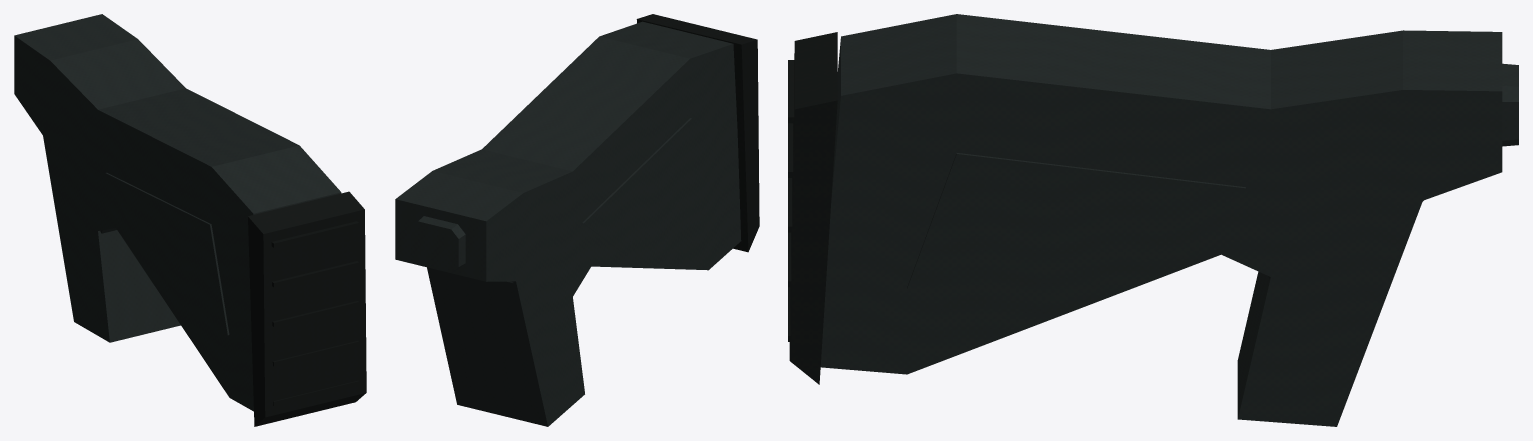
The model's file is benelli_fixed.glb.
3 views of the same model, side by side, from view 1: azimuth 30°, elevation 25°; view 2: azimuth 150°, elevation 25°; view 3: azimuth 270°, elevation 25° (orthographic). The views are drawn at different scales.
Parts seen in each view (by area): view 1: stock__benelli_fixed_LOD0_RAID_Secondary_Original_polymer, stock__benelli_fixed_LOD1_RAID_Secondary_Original_rubber, stock__benelli_fixed_LOD0_RAID_Secondary_Original_rubber, stock__benelli_fixed_LOD1_RAID_Secondary_Original_polymer; view 2: stock__benelli_fixed_LOD0_RAID_Secondary_Original_polymer, stock__benelli_fixed_LOD1_RAID_Secondary_Original_polymer, stock__benelli_fixed_LOD1_RAID_Secondary_Original_rubber, stock__benelli_fixed_LOD0_RAID_Secondary_Original_rubber; view 3: stock__benelli_fixed_LOD0_RAID_Secondary_Original_polymer, stock__benelli_fixed_LOD1_RAID_Secondary_Original_polymer, stock__benelli_fixed_LOD0_RAID_Secondary_Original_rubber, stock__benelli_fixed_LOD1_RAID_Secondary_Original_rubber.
Boxes of the visible parts, x1=… form: stock__benelli_fixed_LOD0_RAID_Secondary_Original_polymer: x1=15, y1=16, x2=335, y2=406; stock__benelli_fixed_LOD1_RAID_Secondary_Original_rubber: x1=248, y1=191, x2=366, y2=426; stock__benelli_fixed_LOD0_RAID_Secondary_Original_rubber: x1=248, y1=193, x2=364, y2=425; stock__benelli_fixed_LOD1_RAID_Secondary_Original_polymer: x1=14, y1=14, x2=341, y2=411; stock__benelli_fixed_LOD0_RAID_Secondary_Original_polymer: x1=398, y1=23, x2=740, y2=423; stock__benelli_fixed_LOD1_RAID_Secondary_Original_polymer: x1=395, y1=21, x2=741, y2=426; stock__benelli_fixed_LOD1_RAID_Secondary_Original_rubber: x1=636, y1=14, x2=759, y2=252; stock__benelli_fixed_LOD0_RAID_Secondary_Original_rubber: x1=639, y1=15, x2=758, y2=249; stock__benelli_fixed_LOD0_RAID_Secondary_Original_polymer: x1=821, y1=16, x2=1518, y2=422; stock__benelli_fixed_LOD1_RAID_Secondary_Original_polymer: x1=820, y1=14, x2=1502, y2=426; stock__benelli_fixed_LOD0_RAID_Secondary_Original_rubber: x1=788, y1=34, x2=836, y2=366; stock__benelli_fixed_LOD1_RAID_Secondary_Original_rubber: x1=789, y1=32, x2=837, y2=384.
Size of the model in its own units: 0.098 by 0.236 by 0.442.
2 materials, 2 textured.
